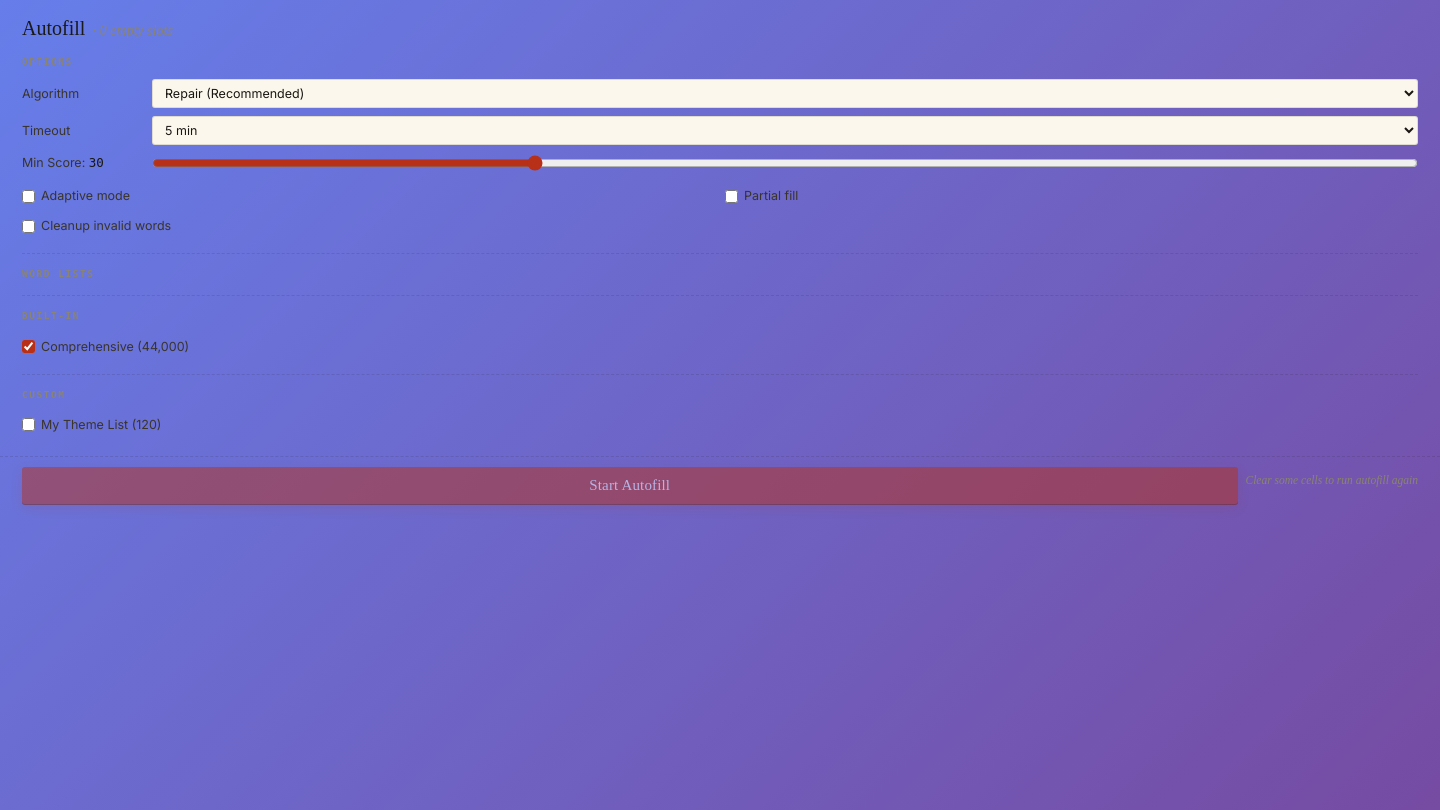
AutofillPanel Start gating and hints (spec 0.2.7 section 2.3 I5, P18) › both conditions at once show both hints
The image size is (1440, 810).
Click the checkbox labelled "Comprehensive (44,000)". click: (28,347)
box: [22,340,35,353]
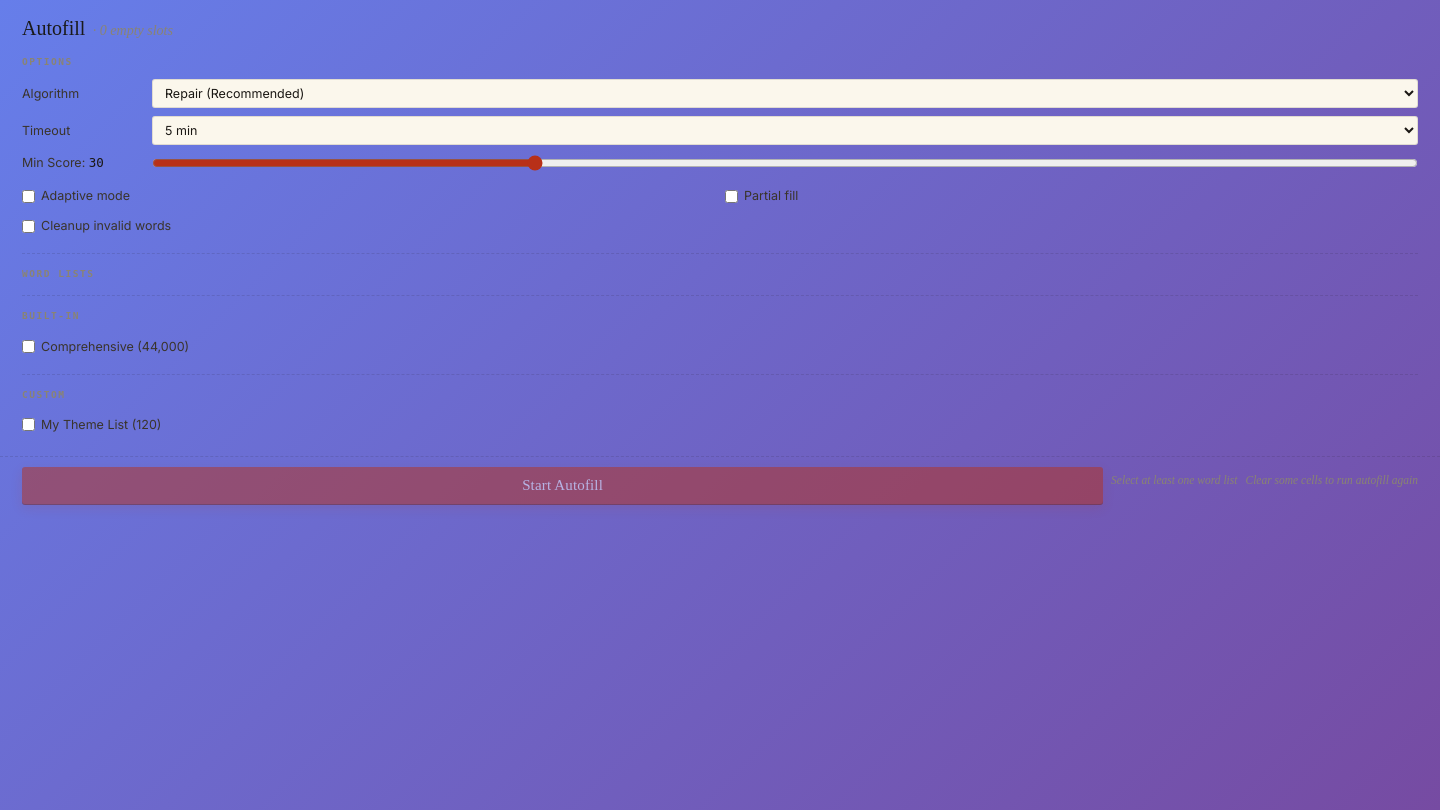
Expected: the text "Clear some cells to run autofill again" is shown, [1246,474,1418,486]
Result: the text "Select at least one word list" is shown at [1111,474,1238,486]
